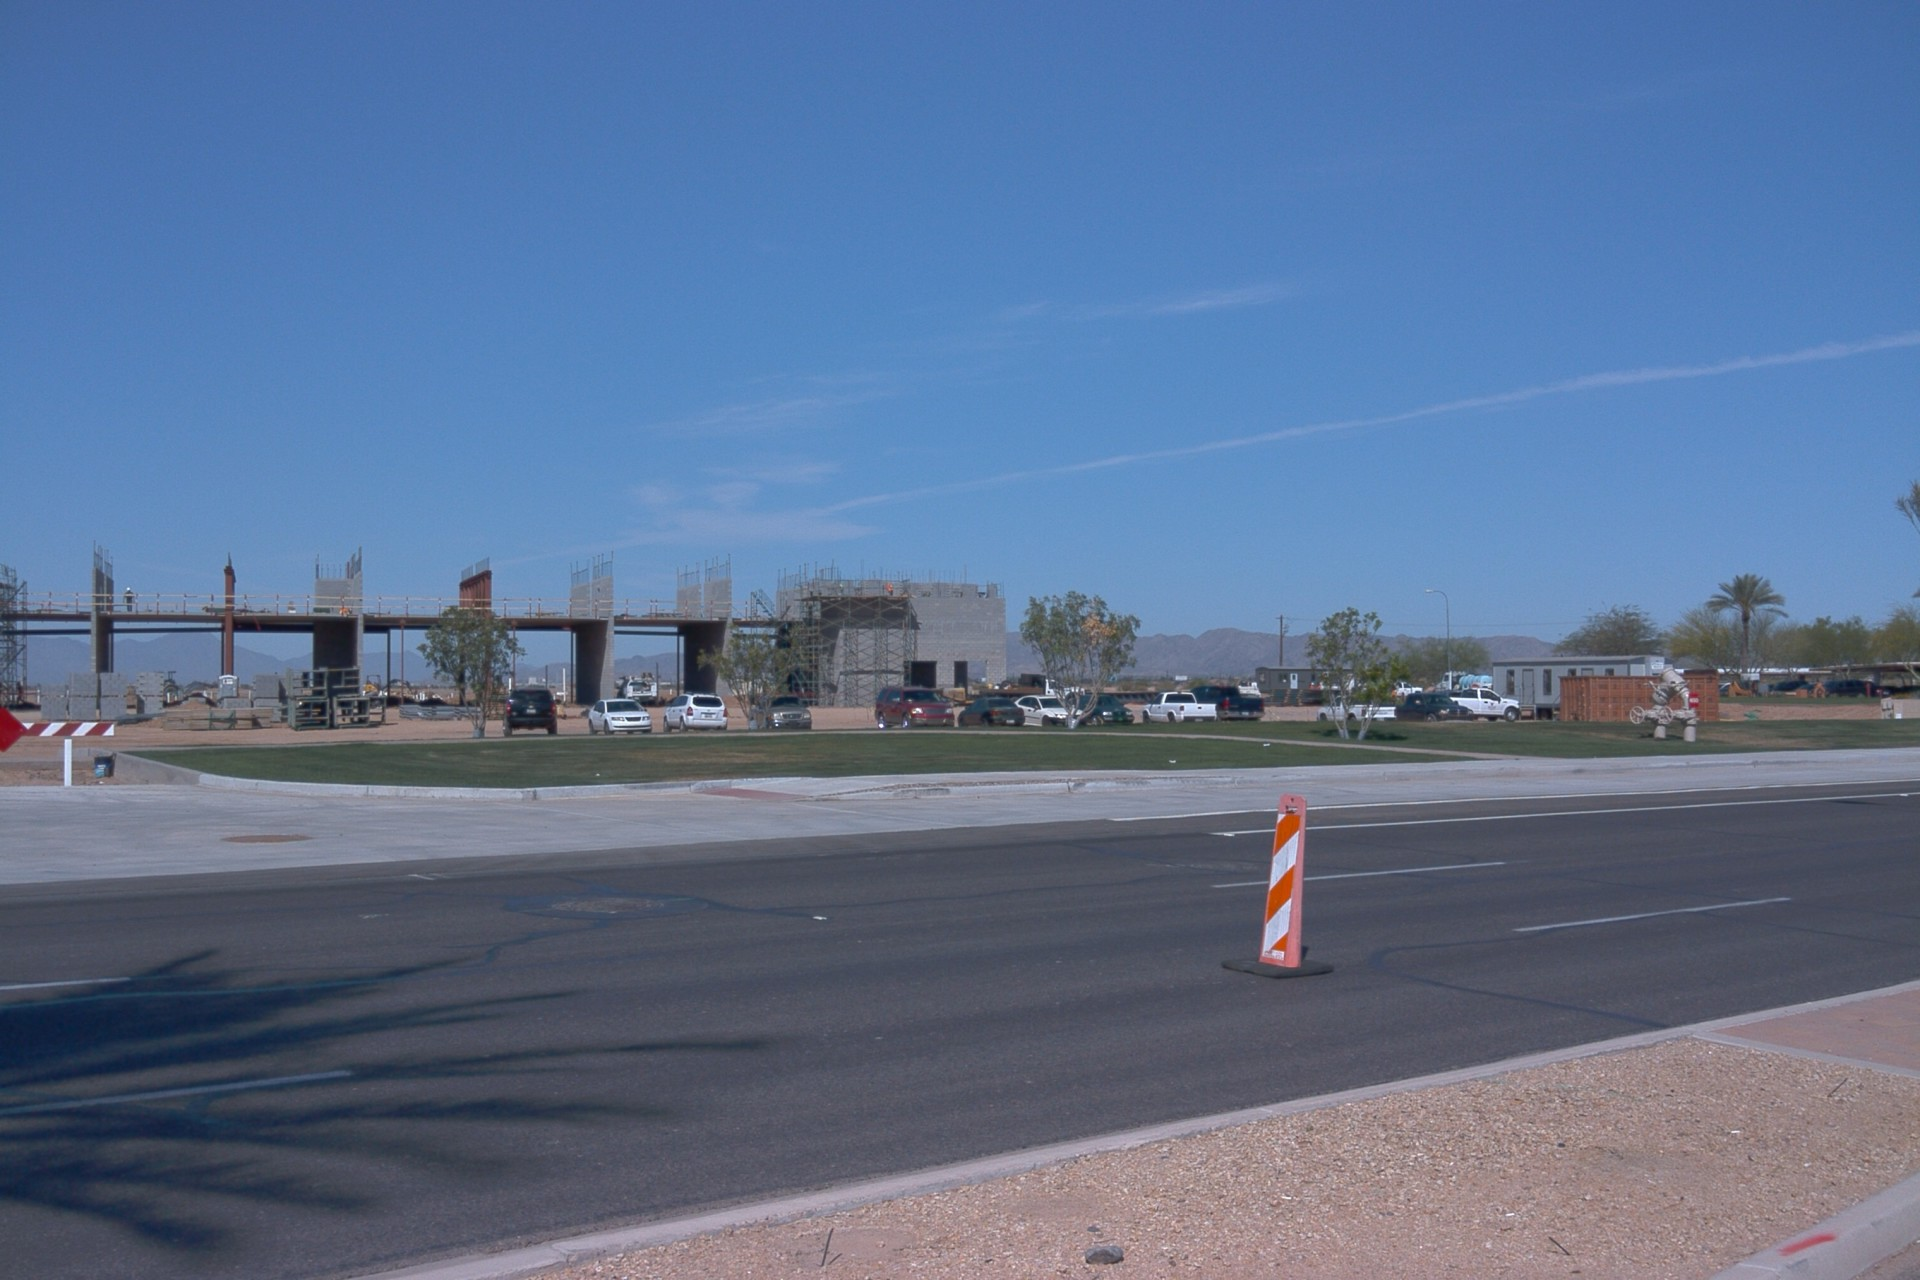TYPE_PEDESTRIAN: (1315, 681, 1323, 692), (1307, 682, 1315, 691)
TYPE_VEHICLE: (872, 682, 952, 730), (1305, 671, 1398, 711), (973, 675, 1081, 706), (1376, 689, 1472, 723), (1140, 686, 1219, 727), (1441, 684, 1520, 725), (1189, 678, 1267, 719), (499, 688, 561, 739), (1013, 692, 1090, 733), (662, 691, 728, 737), (588, 694, 653, 738), (751, 691, 816, 734), (1317, 689, 1399, 723), (956, 688, 1023, 729), (1066, 690, 1133, 725), (614, 672, 661, 713), (363, 675, 417, 706), (1431, 674, 1492, 695), (1821, 677, 1870, 699), (1778, 683, 1822, 699)
